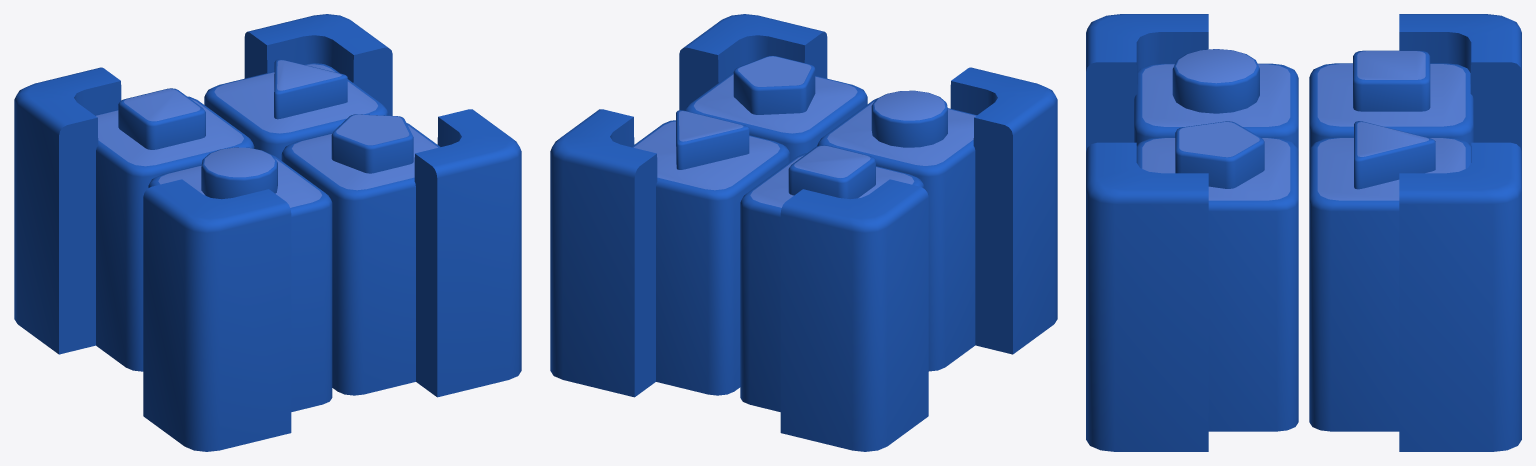
The model's file is big_block.fbx.
3 views of the same model, side by side, from view 1: azimuth 30°, elevation 25°; view 2: azimuth 150°, elevation 25°; view 3: azimuth 270°, elevation 25° (orthographic). The views are drawn at different scales.
Parts seen in each view (by area): view 1: big_block, block_pentagon.001, block_square.001, block_circle.004, block_triangle.001; view 2: big_block, block_triangle.001, block_circle.004, block_square.001, block_pentagon.001; view 3: big_block, block_pentagon.001, block_triangle.001, block_square.001, block_circle.004.
Boxes of the visible parts, x1=… form: big_block: x1=14, y1=14, x2=521, y2=451; block_pentagon.001: x1=281, y1=114, x2=440, y2=395; block_square.001: x1=95, y1=88, x2=254, y2=371; block_circle.004: x1=148, y1=147, x2=332, y2=411; block_triangle.001: x1=204, y1=59, x2=388, y2=160; big_block: x1=550, y1=14, x2=1057, y2=451; block_triangle.001: x1=631, y1=110, x2=790, y2=395; block_circle.004: x1=817, y1=90, x2=976, y2=371; block_square.001: x1=740, y1=145, x2=924, y2=411; block_pentagon.001: x1=685, y1=55, x2=867, y2=161; big_block: x1=1086, y1=14, x2=1521, y2=451; block_pentagon.001: x1=1137, y1=121, x2=1298, y2=431; block_triangle.001: x1=1309, y1=121, x2=1470, y2=431; block_square.001: x1=1309, y1=50, x2=1473, y2=150; block_circle.004: x1=1134, y1=49, x2=1298, y2=150.
Size of the model in its own units: 199 by 199 by 130.
